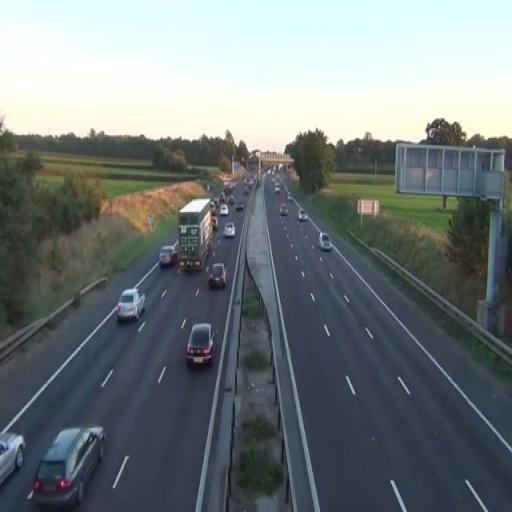Car: (28, 424, 106, 508), (185, 322, 218, 366), (0, 432, 26, 487), (116, 288, 146, 322), (208, 263, 226, 289), (159, 244, 178, 268), (318, 233, 332, 251), (222, 221, 236, 238), (236, 203, 244, 212)
Truck: (177, 198, 213, 272)
